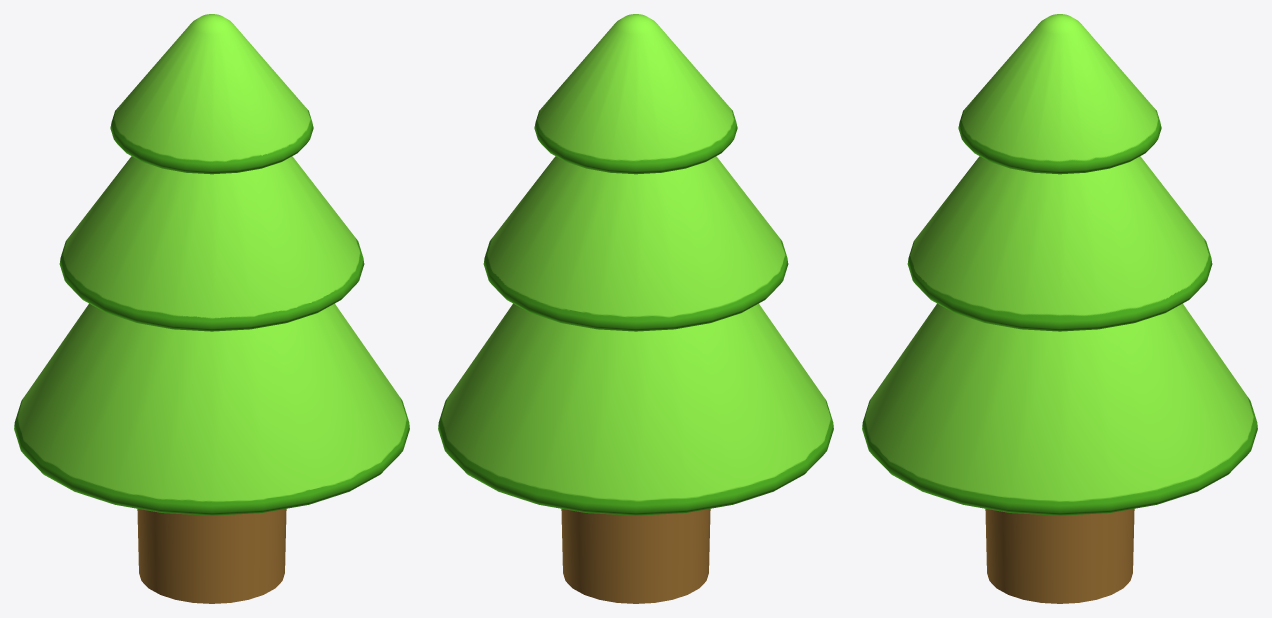
File: SpruceTree.fbx
The picture shows the model from 3 angles, left to right: view 1: azimuth 30°, elevation 25°; view 2: azimuth 150°, elevation 25°; view 3: azimuth 270°, elevation 25°; orthographic projection.
Visible parts, largest first — view 1: SpruceTree_LOD0; view 2: SpruceTree_LOD0; view 3: SpruceTree_LOD0.
Boxes of the visible parts, x1,y1,x2,y2 form: SpruceTree_LOD0: (14,14,409,603); SpruceTree_LOD0: (438,14,833,603); SpruceTree_LOD0: (862,14,1257,603).
Size of what is drawn, in the model's own units: 288 by 288 by 447.
Materials: 1 (1 with a texture image).
